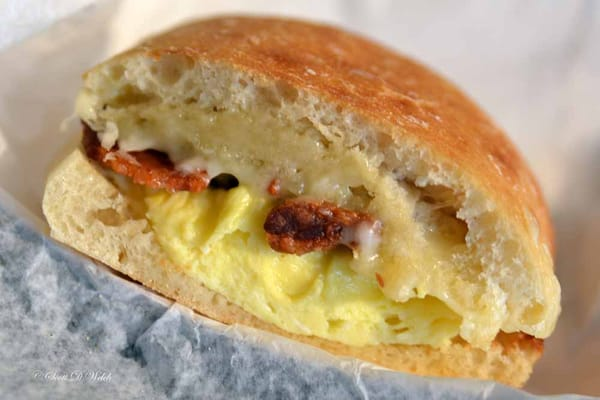sandwich: (49, 17, 575, 384)
